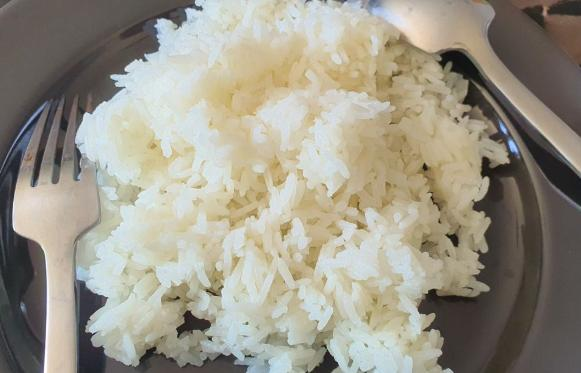makanan_berpati: (152, 49, 414, 302)
